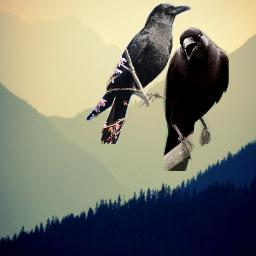Crow: (86, 2, 191, 144), (162, 27, 229, 171)
